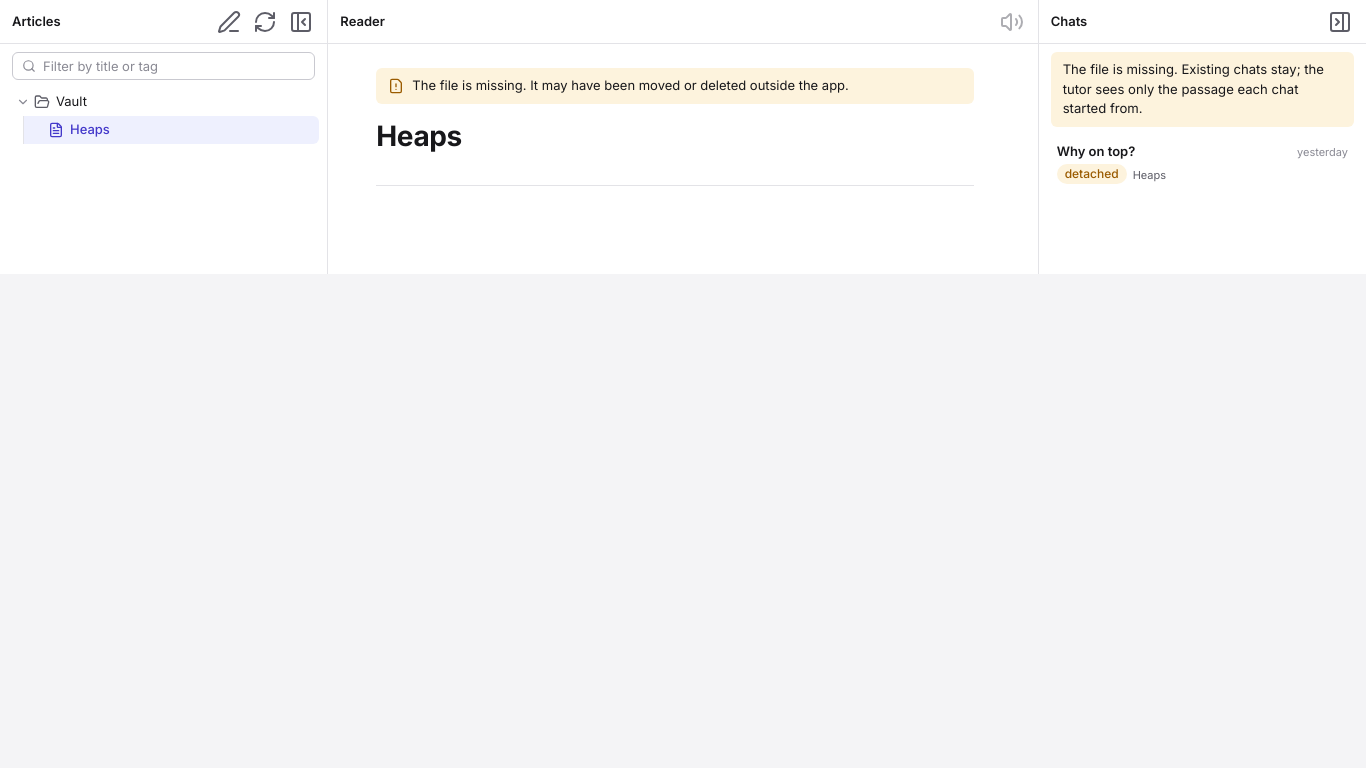
Test: chats on passages › reads existing chats with the tutor off; a missing file says so
Expected: the message with test id "chat-file-missing" is shown, [1051,52,1354,127]
Click the text "Why on top?" at (1096,151), box [1057,143,1135,159]
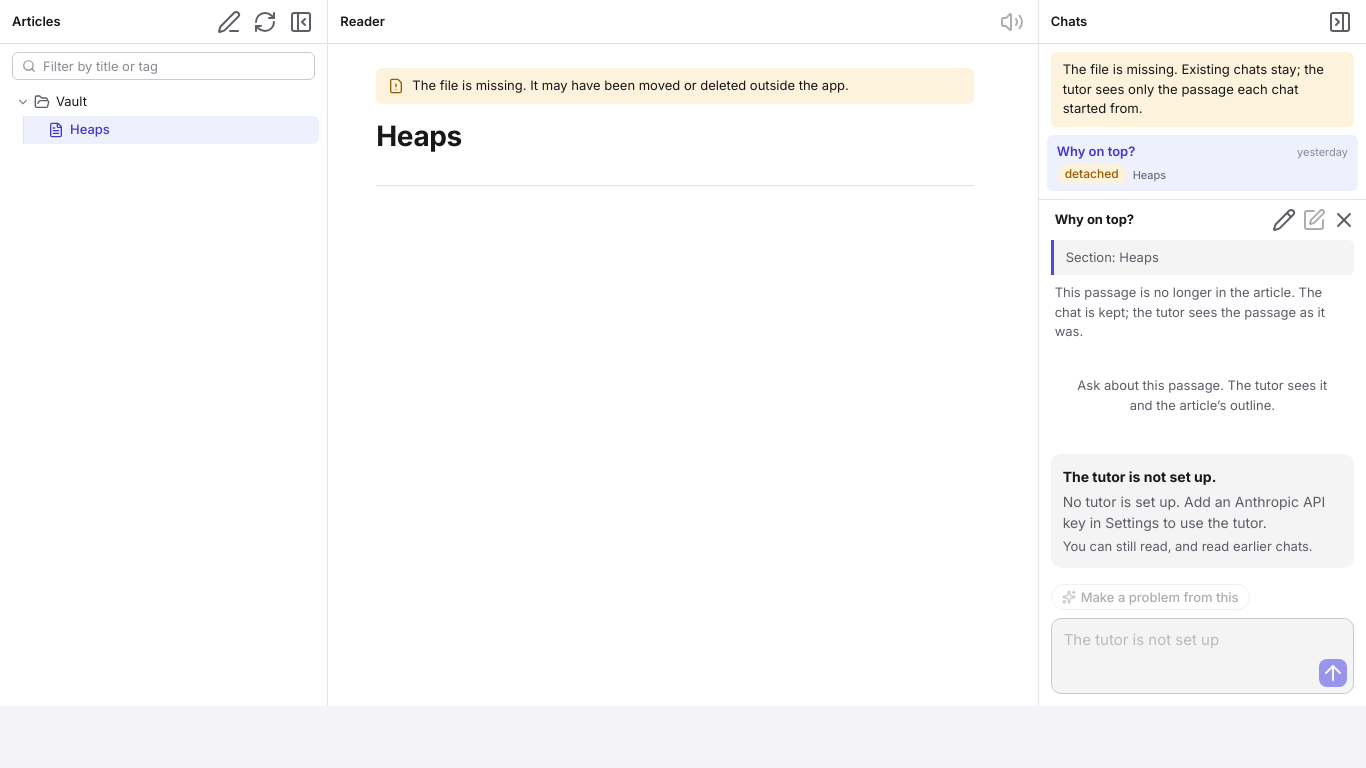
Now the message with test id "ai-unavailable" is shown, box [1051,454,1354,568]
Now the button named "Send" is disabled, box [1319,659,1347,687]
